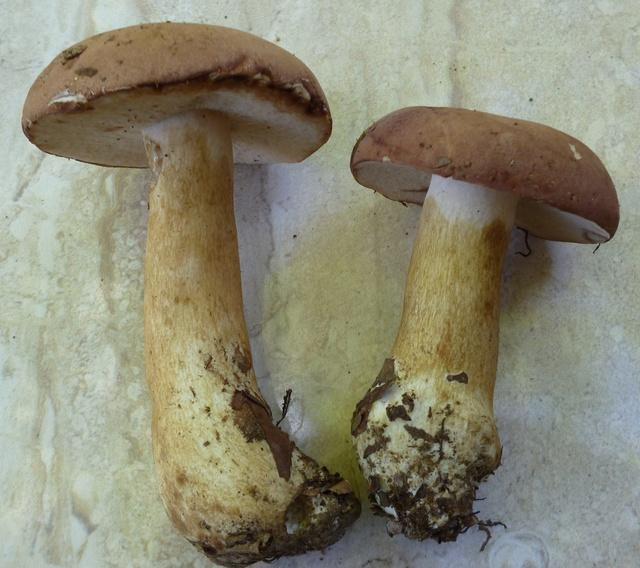Non-edible Mushroom: (20, 19, 362, 565), (347, 102, 620, 544)
